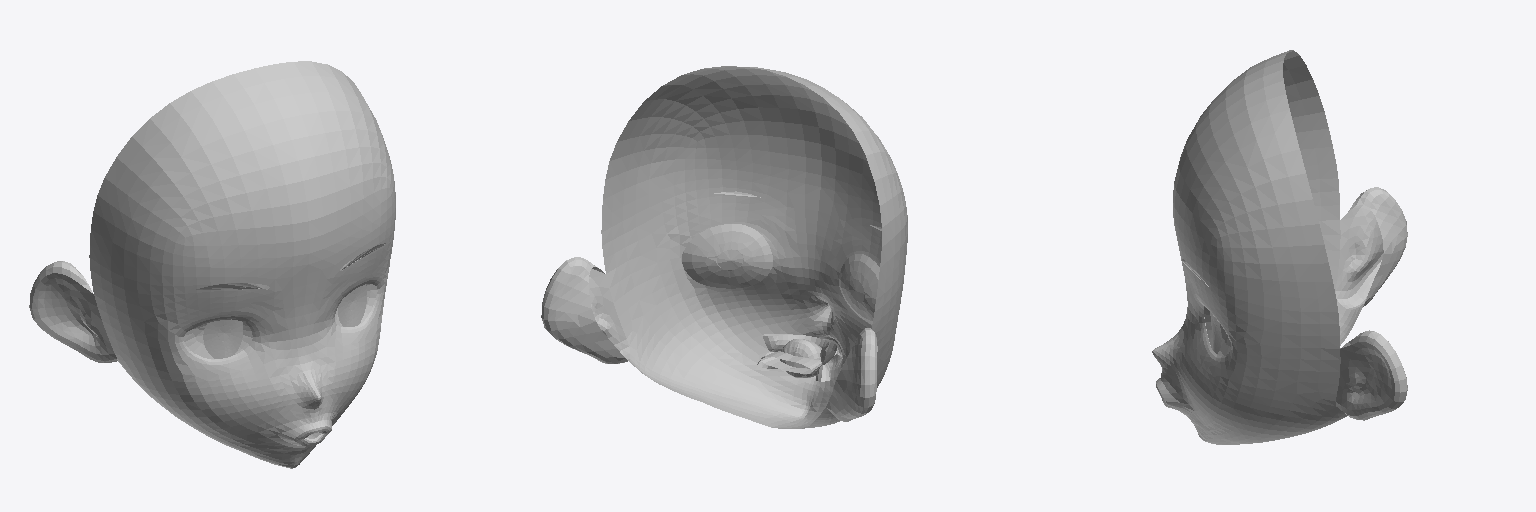
The model's file is mouthFunnel.obj.
3 renders of one model, left to right at view 1: azimuth 30°, elevation 25°; view 2: azimuth 150°, elevation 25°; view 3: azimuth 270°, elevation 25°, orthographic.
Parts seen in each view (by area): view 1: Face; view 2: Face; view 3: Face.
Boxes of the visible parts, x1,y1,x2,y2 form: Face: [29, 61, 395, 468]; Face: [541, 66, 907, 428]; Face: [1152, 50, 1407, 444].
Size of the model in its own units: 0.2176 by 0.2333 by 0.1449.